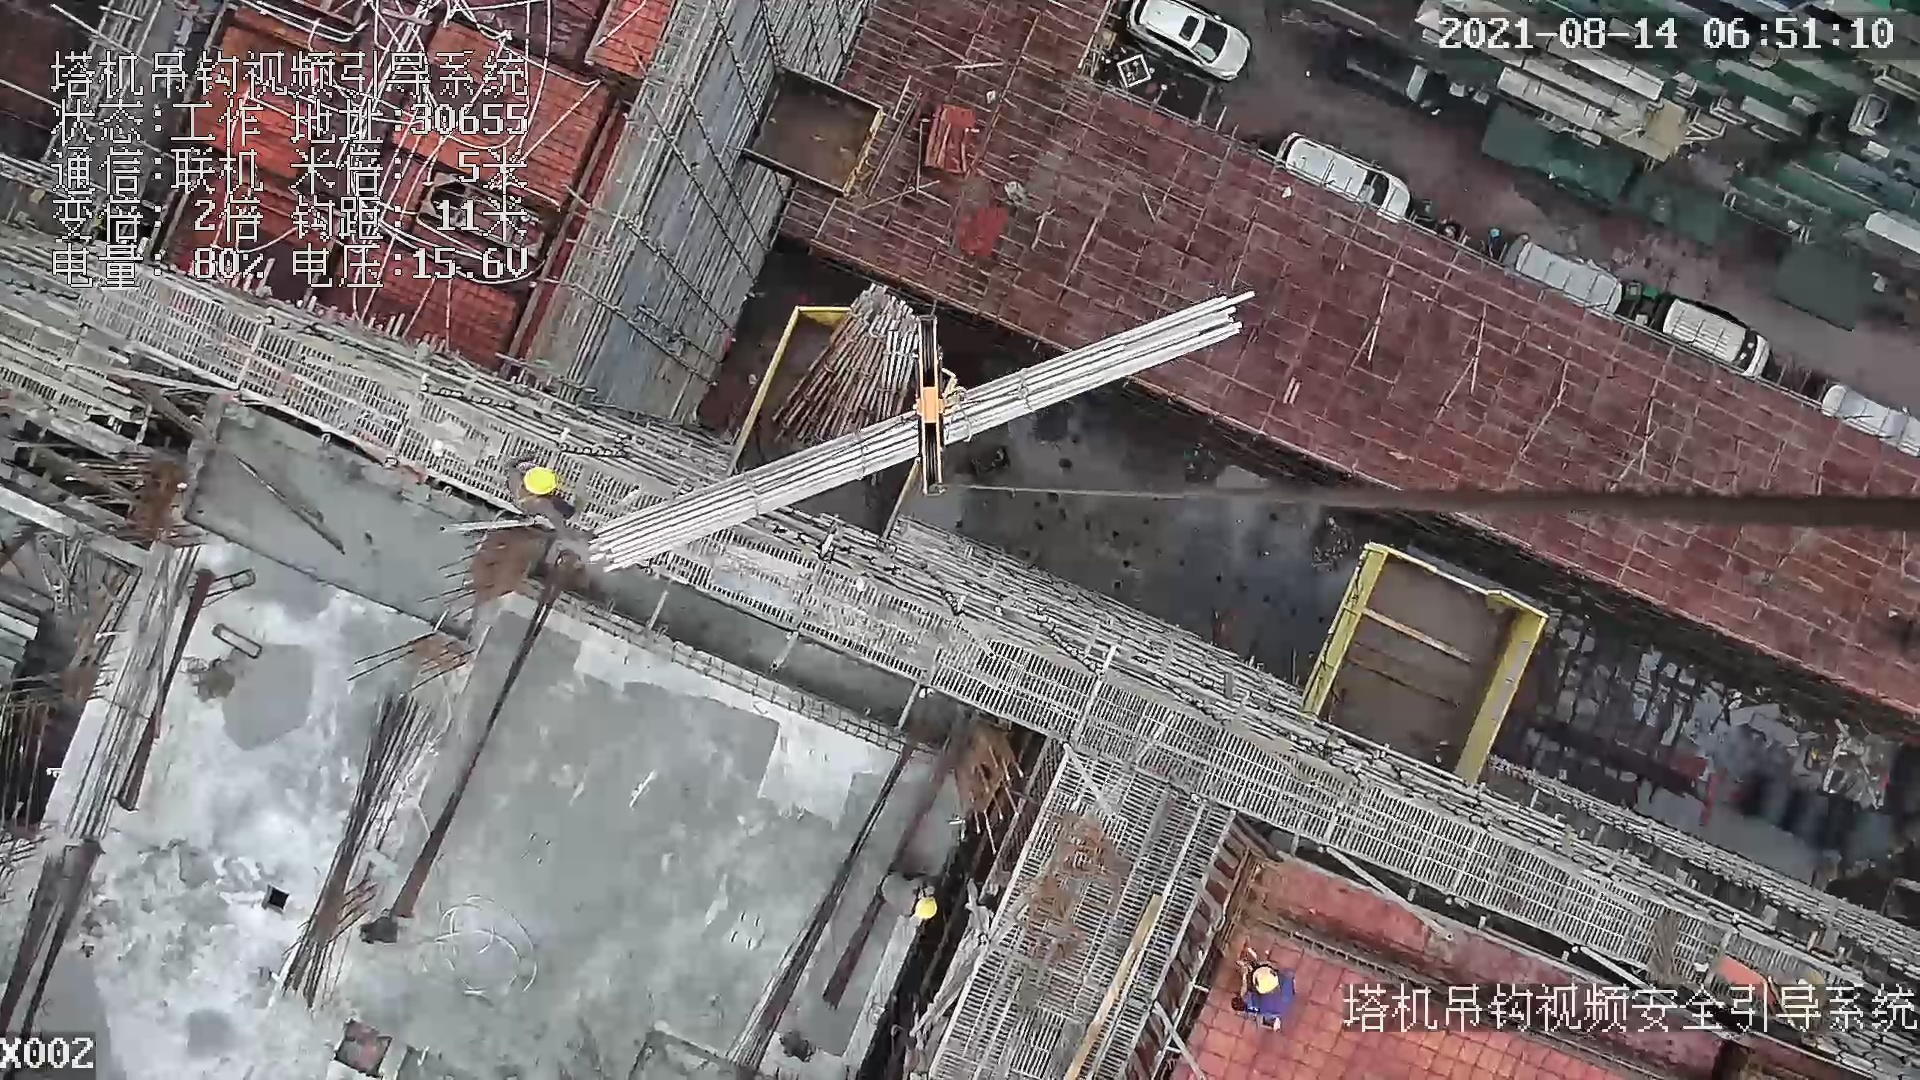helmet: (521, 465, 562, 501), (1247, 965, 1283, 997), (908, 892, 943, 919)
hook: (903, 315, 953, 500)
person: (504, 450, 594, 537), (1224, 942, 1296, 1033), (878, 862, 944, 924)
rebar: (586, 291, 1258, 570), (275, 685, 435, 1008)
scaffold: (771, 287, 909, 447)
